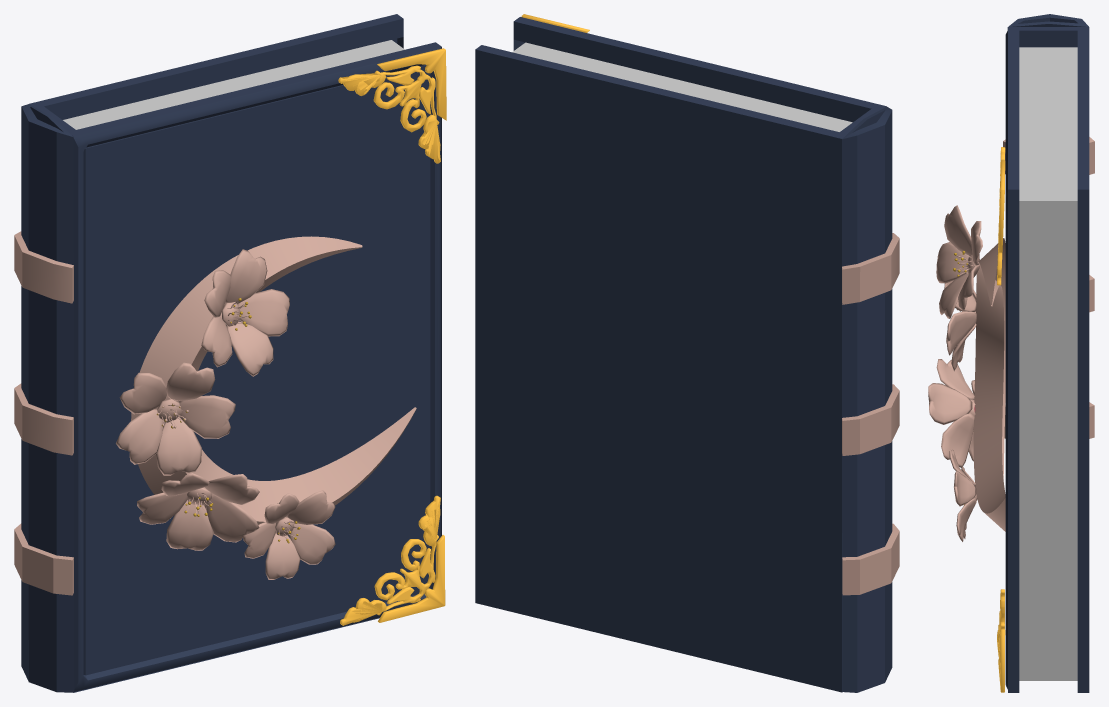
File: prop_Cherrys_book.fbx
3 views of the same model, side by side, from view 1: azimuth 30°, elevation 25°; view 2: azimuth 150°, elevation 25°; view 3: azimuth 270°, elevation 25° (orthographic). The views are drawn at different scales.
Visible parts, largest first — view 1: Libro Cherry, Bordes decorativos libro.001; view 2: Libro Cherry; view 3: Libro Cherry, Bordes decorativos libro.001.
Boxes of the visible parts, x1,y1,x2,y2 form: Libro Cherry: [14, 14, 441, 692]; Bordes decorativos libro.001: [116, 48, 446, 625]; Libro Cherry: [475, 17, 899, 692]; Libro Cherry: [1003, 14, 1094, 692]; Bordes decorativos libro.001: [928, 147, 1005, 692].
Bounding box in the file's own units: 18.01 × 24.5 × 7.24.
